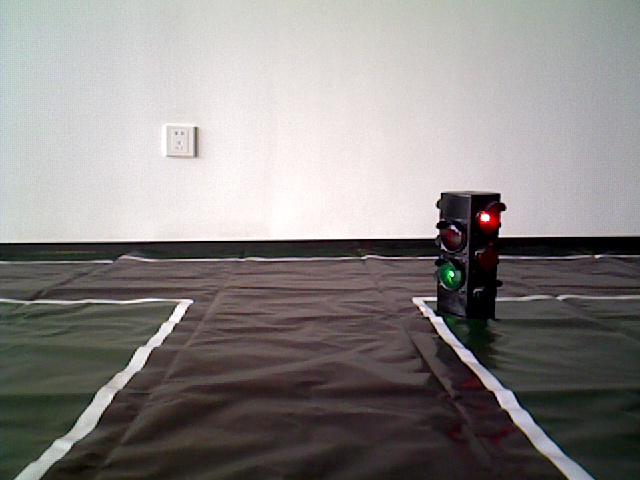red: (436, 193, 496, 310)
